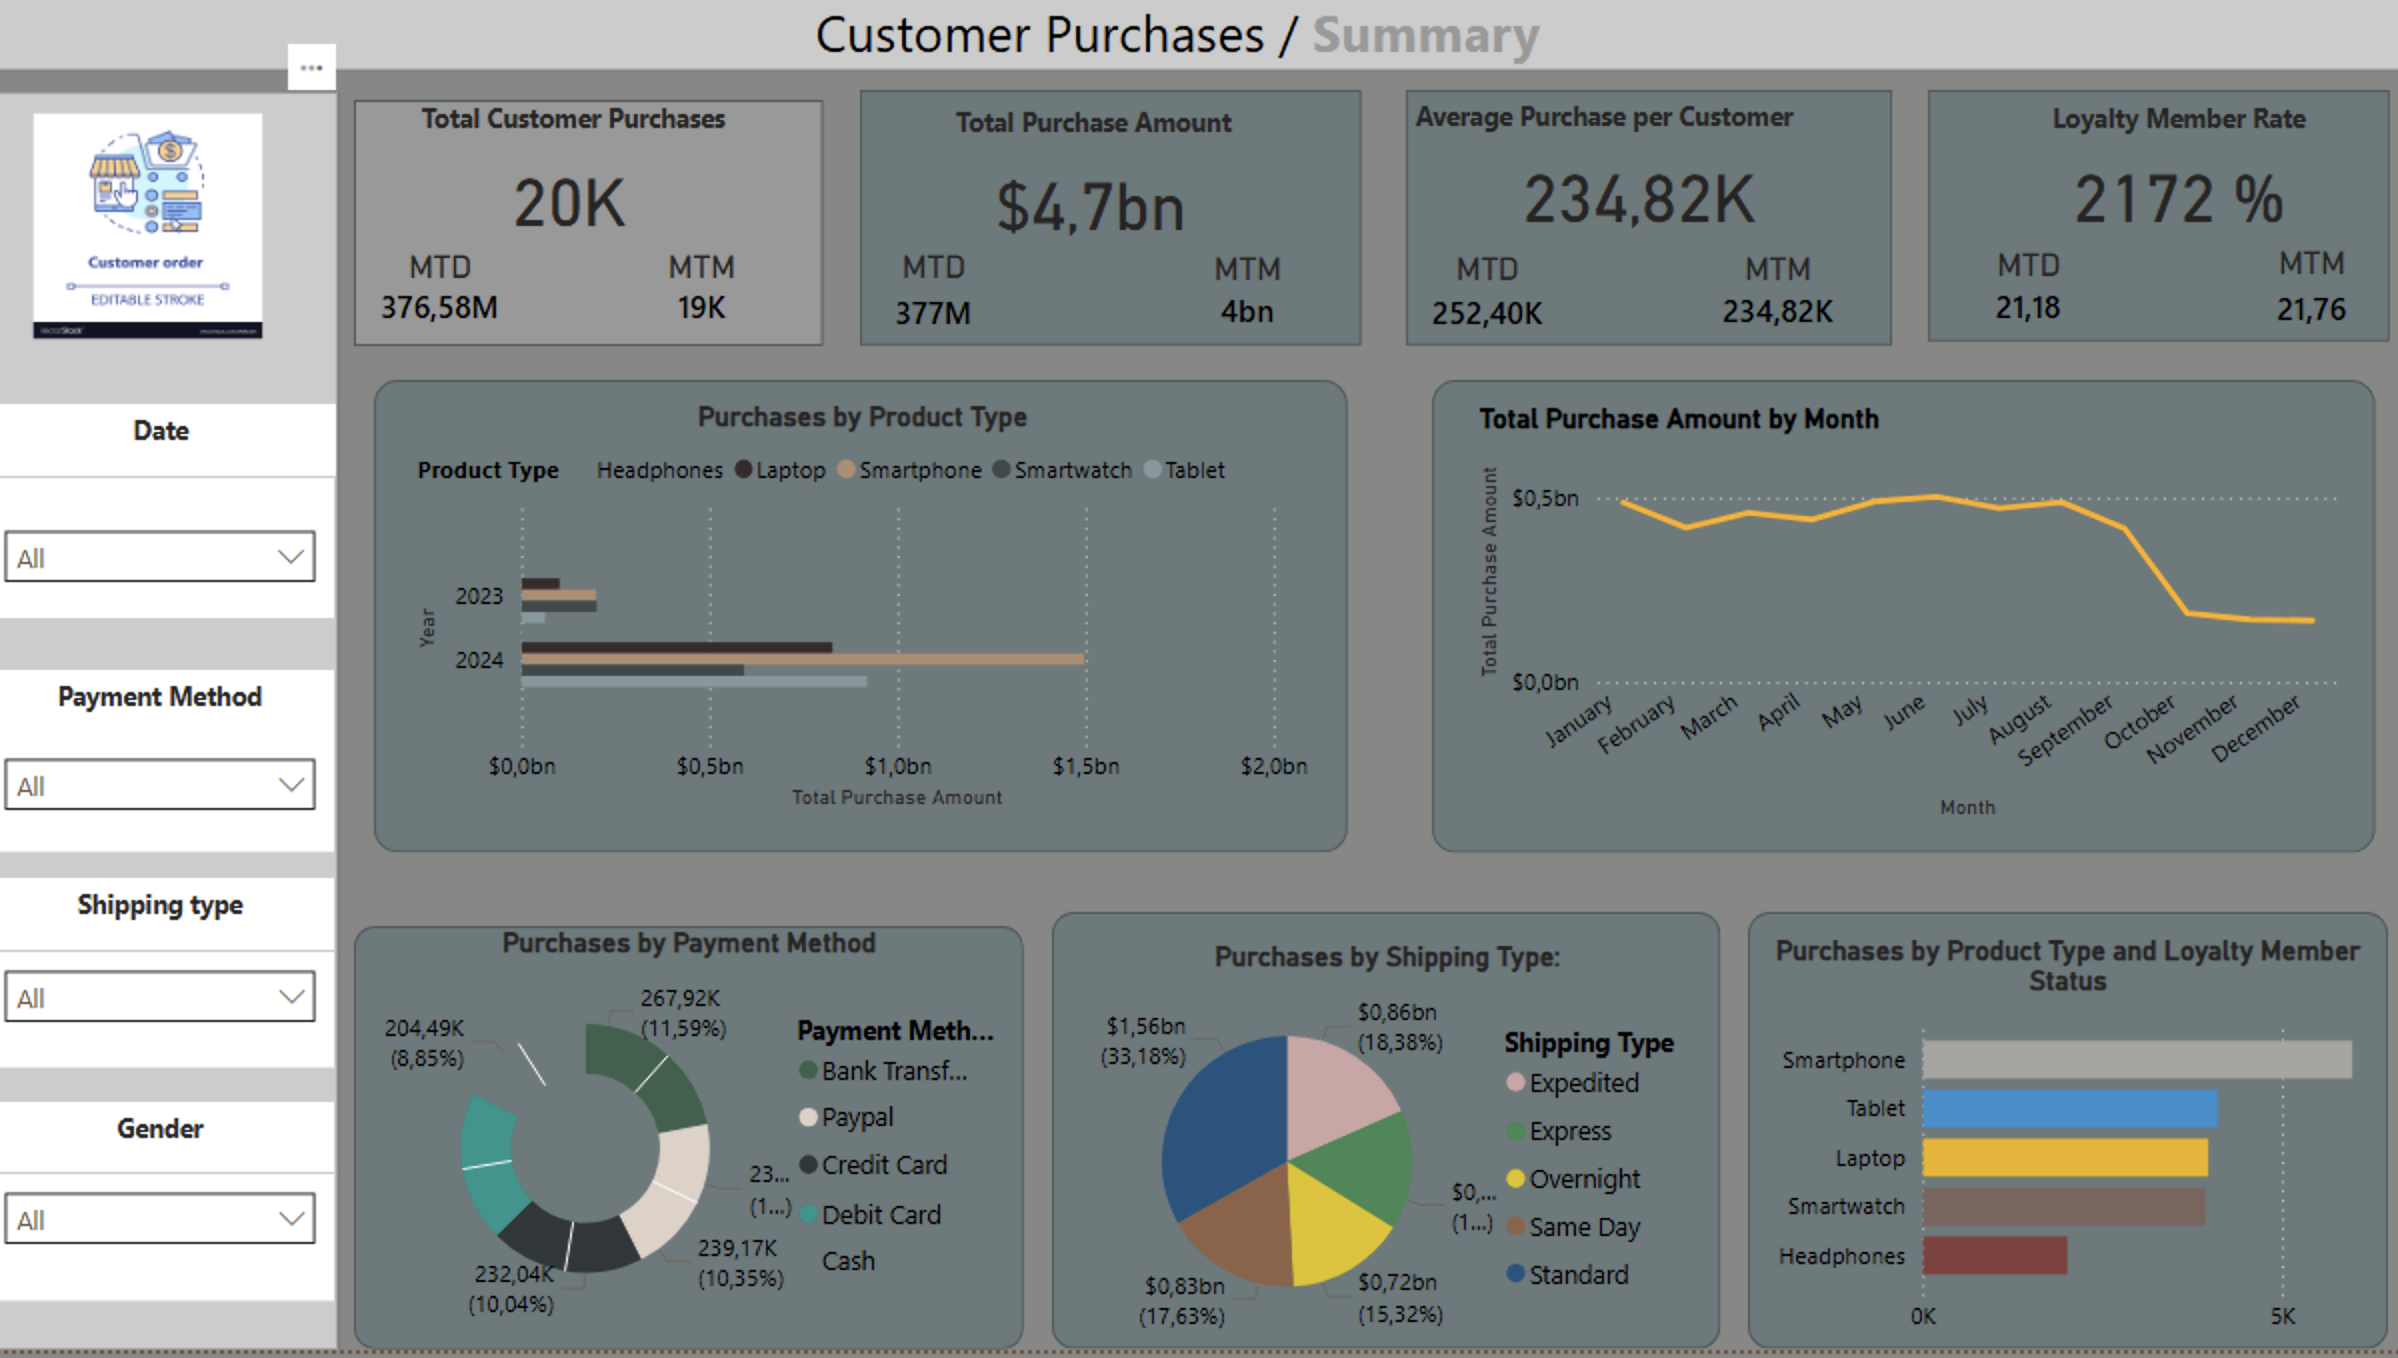

This screenshot's page, from the dashboard's own definition file:
{"tool":"powerbi","page":{"name":"Summary","canvas":[1280,720],"ordinal":0},"visuals":[{"type":"shape","box":[196,59,248,130],"z":0},{"type":"card","title":"Total Customer Purchases","fields":{"Values":["Customer purchase behavior - Electronic Sales Data.Total Customer Purchases"]},"box":[216.2,83.8,185,53.8],"z":1000},{"type":"shape","box":[0,0,1280,44.3],"z":2000},{"type":"shape","box":[0,55,187.5,665],"z":3000},{"type":"textbox","box":[434.3,0,614.3,54.3],"z":4000},{"type":"textbox","box":[178,55,268,54],"z":5000},{"type":"card","title":"MTD","fields":{"Values":["Customer purchase behavior - Electronic Sales Data.Month to date"]},"box":[187.5,137.5,107.5,47.5],"z":6000},{"type":"shape","box":[463,54,265,135],"z":7000},{"type":"card","title":"MTM","fields":{"Values":["Customer purchase behavior - Electronic Sales Data.1.(MoM)"]},"box":[322.5,137.5,113.8,47.5],"z":8000},{"type":"card","title":"Total Customer Purchases","fields":{"Values":["Customer purchase behavior - Electronic Sales Data.Total Purchase Amount"]},"box":[493.1,86,184.9,53],"z":9000},{"type":"card","title":"MTD","fields":{"Values":["Customer purchase behavior - Electronic Sales Data.2. MTD Total Purchase Amount"]},"box":[452.5,137.5,98.8,52.5],"z":10000},{"type":"card","title":"MTM","fields":{"Values":["Customer purchase behavior - Electronic Sales Data.2.MoM_Total_Purchase_Amount"]},"box":[618.8,138.8,98.8,50],"z":11000},{"type":"textbox","box":[452.9,57.3,268,54.5],"z":12000},{"type":"shape","box":[752,54,257,135],"z":13000},{"type":"card","title":"Total Customer Purchases","fields":{"Values":["Customer purchase behavior - Electronic Sales Data.Average Purchase per Customer"]},"box":[782.6,81.7,184.9,53],"z":14000},{"type":"card","title":"MTD","fields":{"Values":["Customer purchase behavior - Electronic Sales Data.3.MTD Average Purchase per Customer"]},"box":[741,139,107,52],"z":15000},{"type":"card","title":"MTM","fields":{"Values":["Customer purchase behavior - Electronic Sales Data.Average Spending by Payment Method"]},"box":[899,139,99,49],"z":16000},{"type":"shape","box":[1028,54,244,133],"z":17000},{"type":"card","title":"Total Customer Purchases","fields":{"Values":["Customer purchase behavior - Electronic Sales Data.Loyalty Member Rate"]},"box":[1067.9,81.7,184.9,53],"z":18000},{"type":"card","title":"MTD","fields":{"Values":["Customer purchase behavior - Electronic Sales Data.4.Loyalty Member Rate"]},"box":[1027.5,136.2,106.2,50],"z":19000},{"type":"card","title":"MTM","fields":{"Values":["Customer purchase behavior - Electronic Sales Data.4. MoM Loyalty Member Rate"]},"box":[1181,135,99,53],"z":20000},{"type":"textbox","box":[752,54,267,55],"z":21000},{"type":"textbox","box":[1039.2,54.5,242.2,54.5],"z":22000},{"type":"shape","box":[206.5,207.5,514.6,249.8],"z":23000},{"type":"shape","box":[765.7,207.1,498.6,250],"z":24000},{"type":"lineChart","fields":{"Y":["Customer purchase behavior - Electronic Sales Data.Total Purchase Amount"],"Category":["Date table.Date.Variation.Date Hierarchy.Month"]},"box":[785.7,220,464.3,224.3],"z":25000},{"type":"shape","box":[196,496,354,224],"z":26000},{"type":"shape","box":[565,488.8,353.8,231.2],"z":27000},{"type":"shape","box":[932.5,488.8,338.8,231.2],"z":28000},{"type":"donutChart","title":"Purchases by Payment Method","fields":{"Category":["Customer purchase behavior - Electronic Sales Data.Payment Method"],"Y":["Customer purchase behavior - Electronic Sales Data.Average Spending by Payment Method"],"Series":["Customer purchase behavior - Electronic Sales Data.Loyalty Member"]},"box":[201,497,344,217],"z":29000},{"type":"clusteredBarChart","title":"Purchases by Product Type","fields":{"Category":["Date table.Date.Variation.Date Hierarchy.Year"],"Y":["Customer purchase behavior - Electronic Sales Data.Total Purchase Amount"],"Series":["Customer purchase behavior - Electronic Sales Data.Product Type"]},"box":[222.9,217.1,480,227.1],"z":30000},{"type":"pieChart","title":"Purchases by Shipping Type:","fields":{"Category":["Customer purchase behavior - Electronic Sales Data.Shipping Type","Date table.Date.Variation.Date Hierarchy.Month"],"Y":["Customer purchase behavior - Electronic Sales Data.Total Purchase Amount"]},"box":[569,504,346,216],"z":31000},{"type":"clusteredBarChart","title":"Purchases by Product Type and Loyalty Member Status","fields":{"Y":["Customer purchase behavior - Electronic Sales Data.Total_Purchases"],"Category":["Customer purchase behavior - Electronic Sales Data.Rating","Customer purchase behavior - Electronic Sales Data.Product Type"]},"box":[939,501,326,219],"z":32000},{"type":"slicer","fields":{"Values":["Date table.Date.Variation.Date Hierarchy.Year","Date table.Date.Variation.Date Hierarchy.Quarter","Date table.Date.Variation.Date Hierarchy.Month","Date table.Date.Variation.Date Hierarchy.Day"]},"box":[1.2,258.8,183.8,73.8],"z":33000},{"type":"textbox","box":[0.8,470.8,184.2,38.3],"z":34000},{"type":"textbox","box":[1,360,184,38],"z":35000},{"type":"textbox","box":[1,220,185,38],"z":36000},{"type":"slicer","fields":{"Values":["Customer purchase behavior - Electronic Sales Data.Payment Method"]},"box":[1,398,184,59],"z":37000},{"type":"slicer","fields":{"Values":["Customer purchase behavior - Electronic Sales Data.Shipping Type"]},"box":[0.8,509.2,184.2,60.8],"z":38000},{"type":"image","box":[21.2,61.2,131.2,128.8],"z":39000},{"type":"textbox","box":[1,589,184,37],"z":40000},{"type":"slicer","fields":{"Values":["Customer purchase behavior - Electronic Sales Data.Gender"]},"box":[1.4,627.1,184.3,67.1],"z":40001}]}

Visuals, with their boxes on the page's 1280x720 design canvas (x1, y1, x2, y2). These are canvas units, not pixel positions in the 2398x1358 screenshot, which may show the page scaled, cropped or inside an application window:
shape: [196,59,444,189]
"Total Customer Purchases" card: [216,84,401,138]
shape: [0,0,1280,44]
shape: [0,55,188,720]
textbox: [434,0,1049,54]
textbox: [178,55,446,109]
"MTD" card: [188,138,295,185]
shape: [463,54,728,189]
"MTM" card: [322,138,436,185]
"Total Customer Purchases" card: [493,86,678,139]
"MTD" card: [452,138,551,190]
"MTM" card: [619,139,718,189]
textbox: [453,57,721,112]
shape: [752,54,1009,189]
"Total Customer Purchases" card: [783,82,968,135]
"MTD" card: [741,139,848,191]
"MTM" card: [899,139,998,188]
shape: [1028,54,1272,187]
"Total Customer Purchases" card: [1068,82,1253,135]
"MTD" card: [1028,136,1134,186]
"MTM" card: [1181,135,1280,188]
textbox: [752,54,1019,109]
textbox: [1039,54,1281,109]
shape: [206,208,721,457]
shape: [766,207,1264,457]
lineChart - Customer purchase behavior - Electronic Sales Data.Total Purchase Amount x Date table.Date.Variation.Date Hierarchy.Month: [786,220,1250,444]
shape: [196,496,550,720]
shape: [565,489,919,720]
shape: [932,489,1271,720]
"Purchases by Payment Method" donutChart: [201,497,545,714]
"Purchases by Product Type" clusteredBarChart: [223,217,703,444]
"Purchases by Shipping Type:" pieChart: [569,504,915,720]
"Purchases by Product Type and Loyalty Member Status" clusteredBarChart: [939,501,1265,720]
slicer - Date table.Date.Variation.Date Hierarchy.Year x Date table.Date.Variation.Date Hierarchy.Quarter: [1,259,185,333]
textbox: [1,471,185,509]
textbox: [1,360,185,398]
textbox: [1,220,186,258]
slicer - Customer purchase behavior - Electronic Sales Data.Payment Method: [1,398,185,457]
slicer - Customer purchase behavior - Electronic Sales Data.Shipping Type: [1,509,185,570]
image: [21,61,152,190]
textbox: [1,589,185,626]
slicer - Customer purchase behavior - Electronic Sales Data.Gender: [1,627,186,694]
